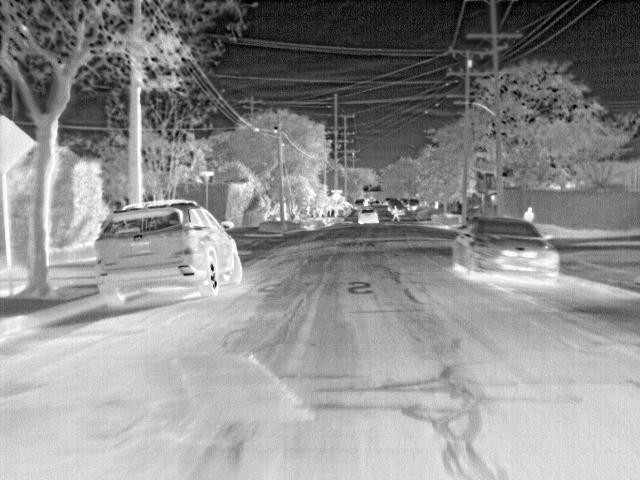car: (93, 197, 243, 308), (453, 214, 563, 287), (359, 206, 379, 224), (383, 199, 398, 211), (393, 204, 406, 216), (406, 198, 419, 210)
person: (523, 206, 536, 225), (393, 204, 401, 218)
